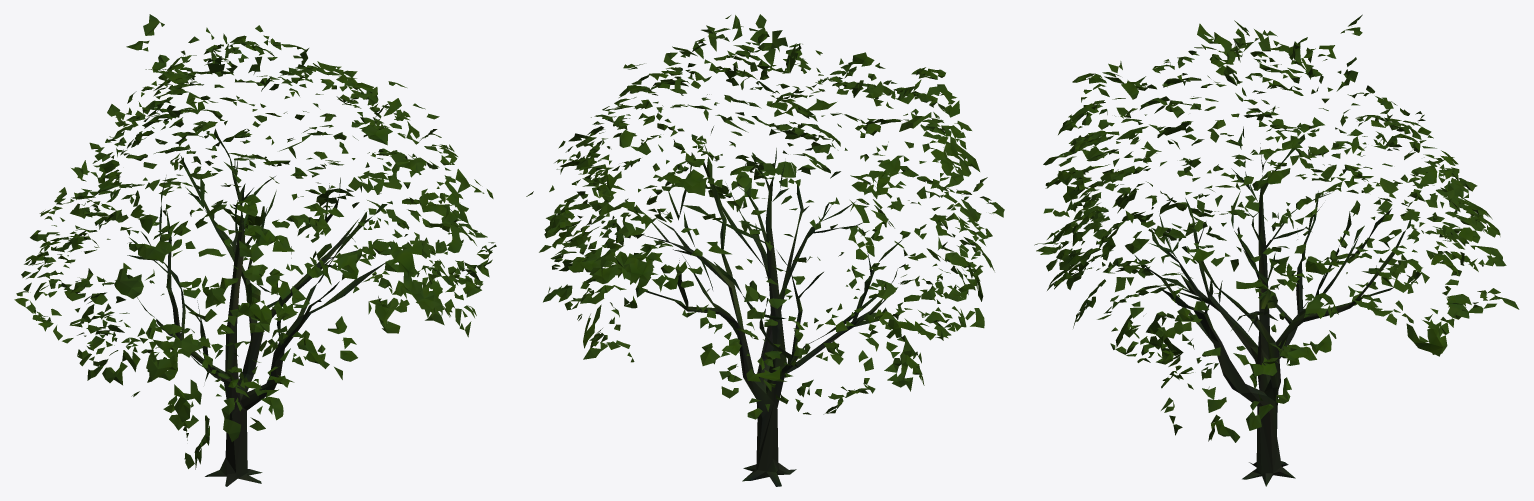
The model's file is lib_tp_muamy.vc.glb.
3 renders of one model, left to right at view 1: azimuth 30°, elevation 25°; view 2: azimuth 150°, elevation 25°; view 3: azimuth 270°, elevation 25°, orthographic.
Parts seen in each view (by area): view 1: lib_tp_muamy; view 2: lib_tp_muamy; view 3: lib_tp_muamy.
Boxes of the visible parts, box(x1,y1,x2,y2) form: lib_tp_muamy: box(14, 14, 496, 486); lib_tp_muamy: box(526, 14, 1004, 486); lib_tp_muamy: box(1034, 14, 1519, 486).
Bounding box in the file's own units: 1.8 × 1.88 × 1.88.
